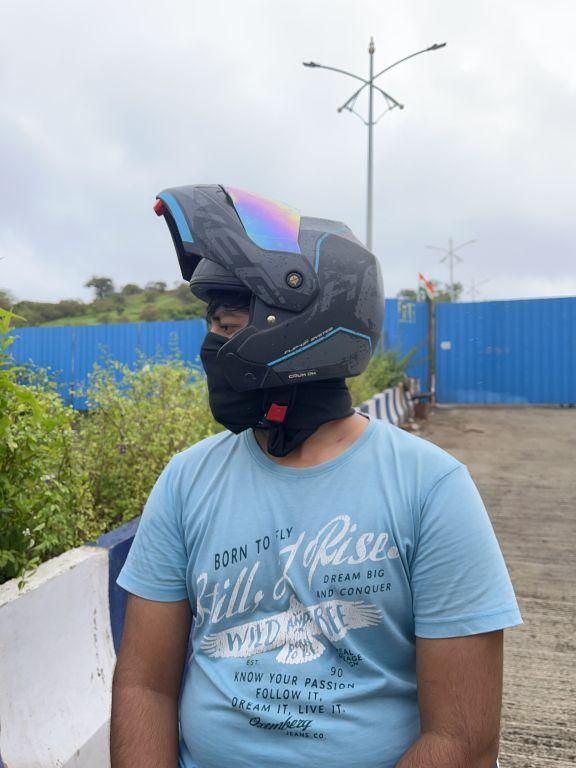helmet: (145, 169, 397, 445)
